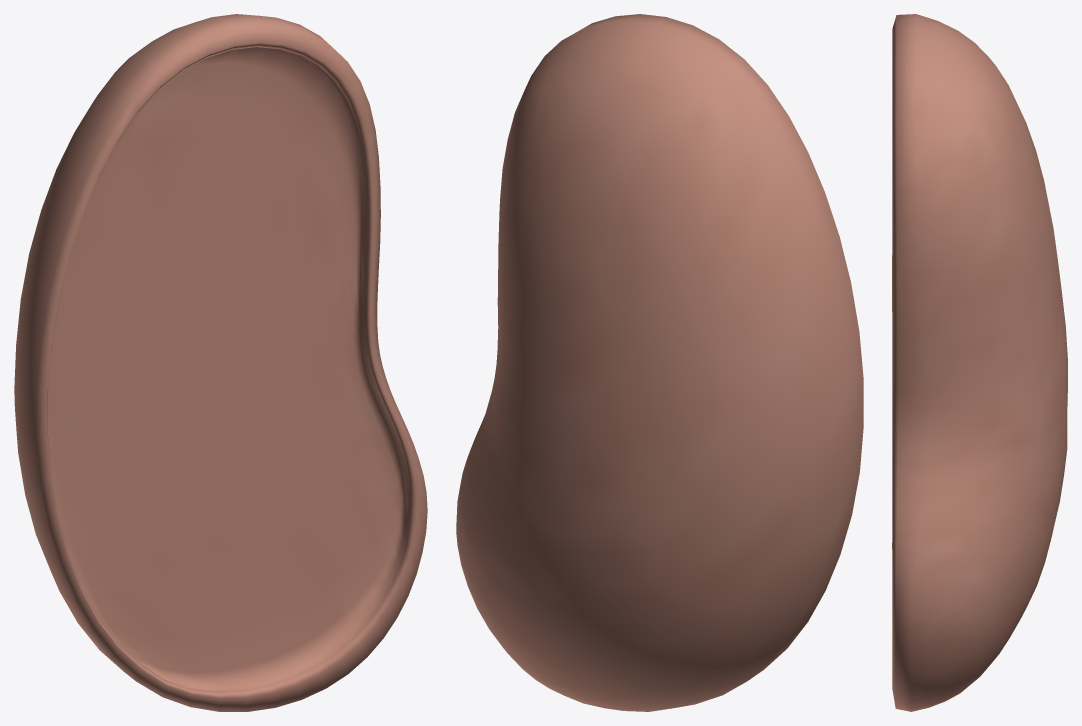
3 renders of one model, left to right at view 1: azimuth 30°, elevation 25°; view 2: azimuth 150°, elevation 25°; view 3: azimuth 270°, elevation 25°, orthographic. The views are drawn at different scales.
Visible parts, largest first — view 1: LOD 0_14591652872871216962_a1e5460f9667e624384844bb77a670e0; view 2: LOD 0_14591652872871216962_a1e5460f9667e624384844bb77a670e0; view 3: LOD 0_14591652872871216962_a1e5460f9667e624384844bb77a670e0.
Boxes of the visible parts, box(x1,y1,x2,y2) form: LOD 0_14591652872871216962_a1e5460f9667e624384844bb77a670e0: box(14, 14, 427, 711); LOD 0_14591652872871216962_a1e5460f9667e624384844bb77a670e0: box(456, 14, 863, 711); LOD 0_14591652872871216962_a1e5460f9667e624384844bb77a670e0: box(892, 14, 1067, 711).
Bounding box in the file's own units: 4.35 × 7.33 × 1.81.
